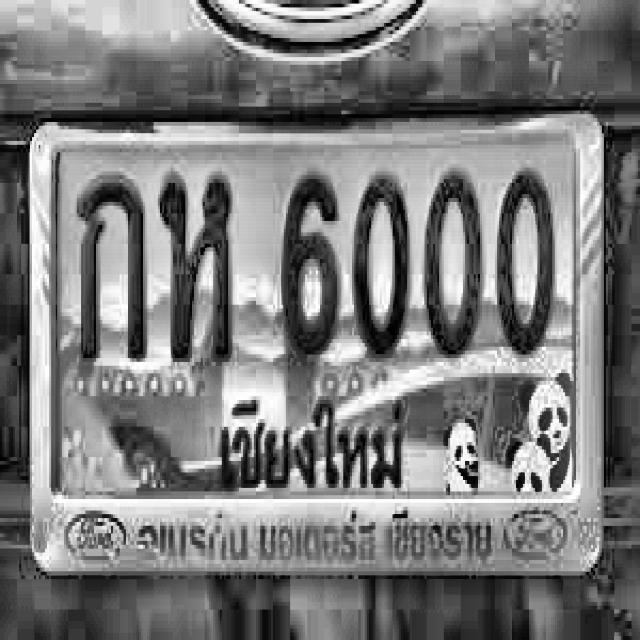license-plate: (19, 92, 612, 594)
